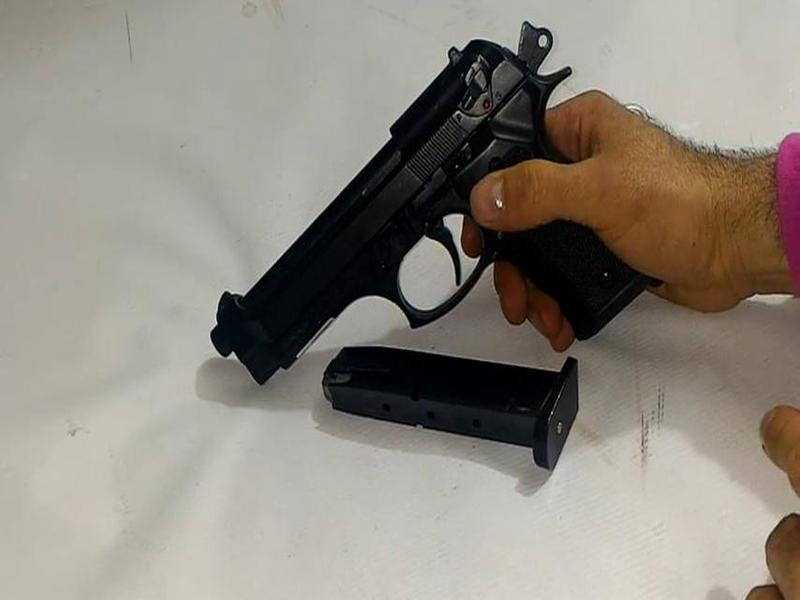Pistola: (166, 15, 671, 399)
